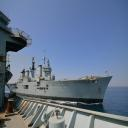Portanaves: (6, 50, 114, 109)
